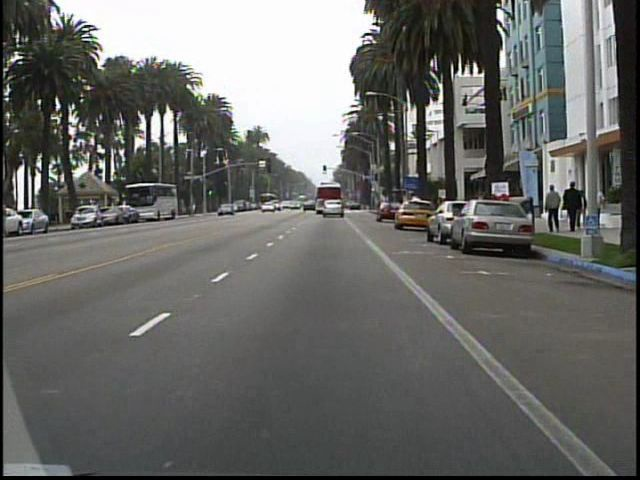person: (561, 178, 582, 233), (544, 183, 562, 236), (589, 181, 607, 231)
